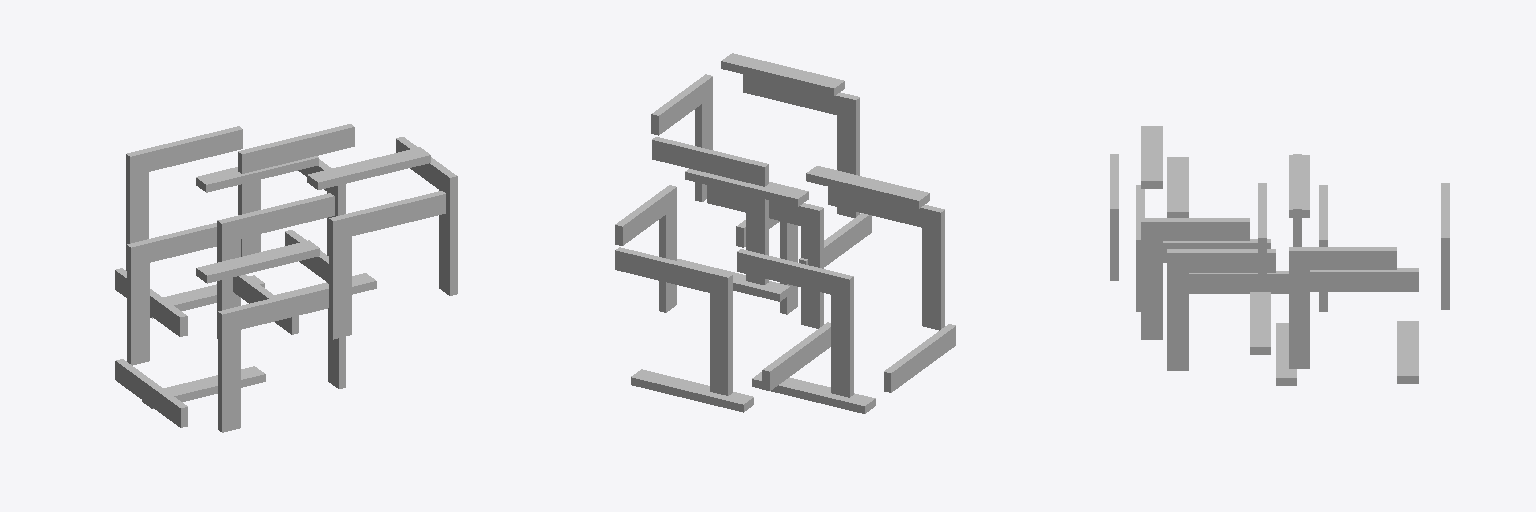
The model's file is bush-neon.obj.
The picture shows the model from 3 angles: view 1: azimuth 30°, elevation 25°; view 2: azimuth 150°, elevation 25°; view 3: azimuth 270°, elevation 25°; orthographic projection.
Parts seen in each view (by area): view 1: Cube.003, Cube.006, Cube.004; view 2: Cube.004, Cube.003, Cube.006; view 3: Cube.004, Cube.003, Cube.006.
Boxes of the visible parts, <box> form: Cube.003: <box>115,223,345,432</box>; Cube.006: <box>233,124,457,339</box>; Cube.004: <box>115,126,345,338</box>; Cube.004: <box>615,169,830,412</box>; Cube.003: <box>736,166,955,413</box>; Cube.006: <box>651,53,871,301</box>; Cube.004: <box>1258,155,1449,383</box>; Cube.003: <box>1136,157,1327,385</box>; Cube.006: <box>1110,126,1301,354</box>.
Bounding box in the file's own units: 3.5 × 3.2 × 3.9.